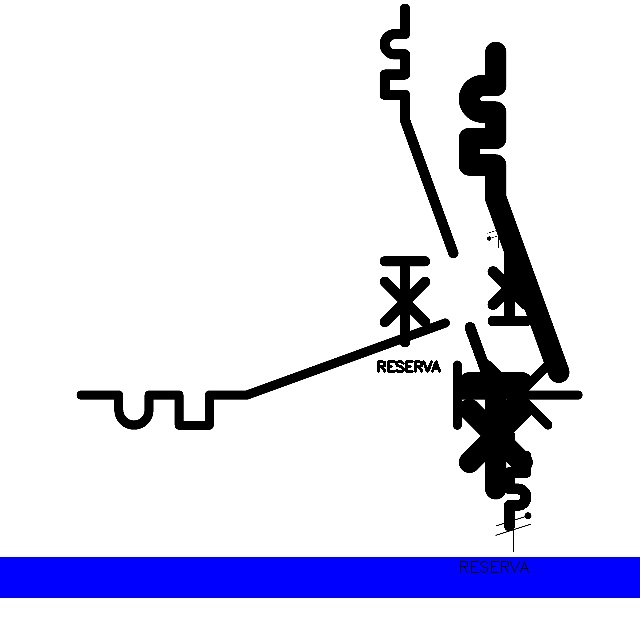interruptor_termomagnetico: (68, 310, 591, 438), (458, 41, 570, 500), (376, 0, 462, 351), (463, 248, 533, 533)
